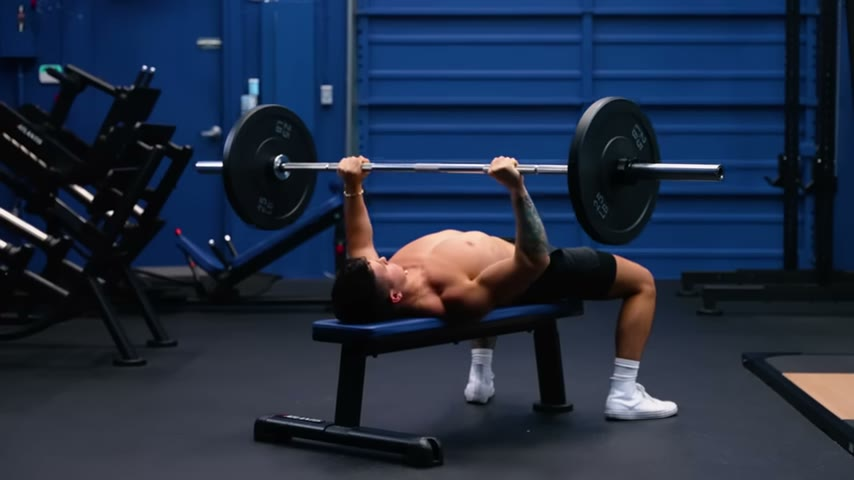barbell_plate_side: (597, 83, 720, 257), (222, 98, 328, 280)
